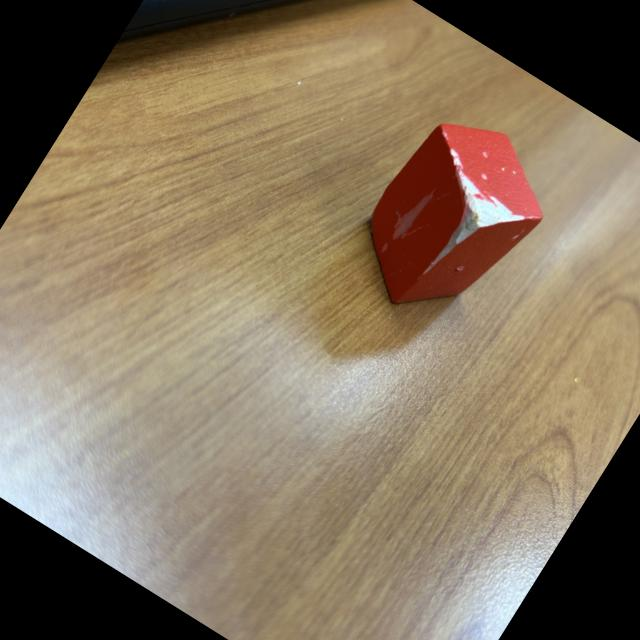broken: (334, 93, 572, 348)
